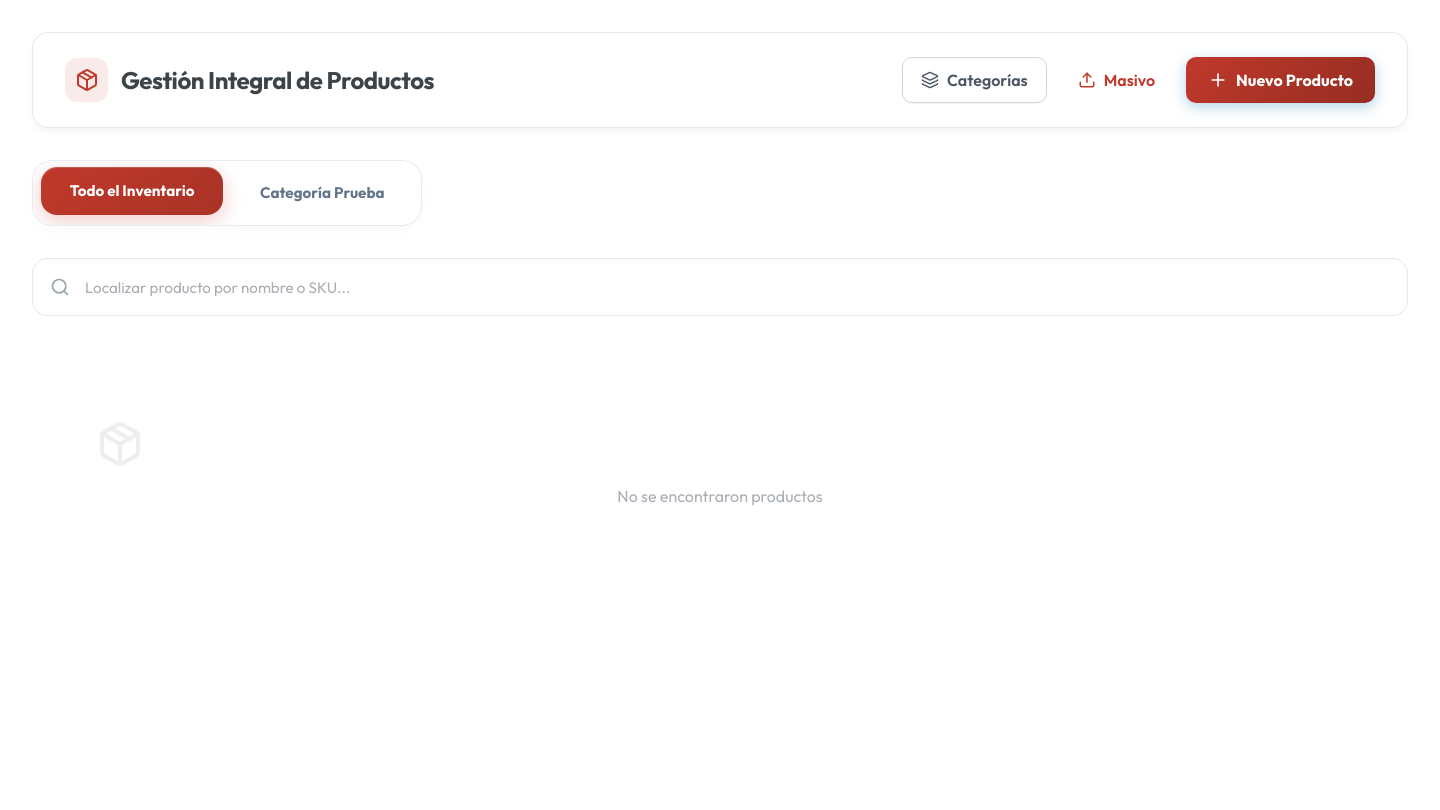
Test: Matriz de Casos de Prueba - Módulo Inventario › CP-004: Validar que el Código Interno sea único
The image size is (1440, 810).
Click the button "Nuevo Producto".
click(1280, 80)  # box [1186, 57, 1375, 103]
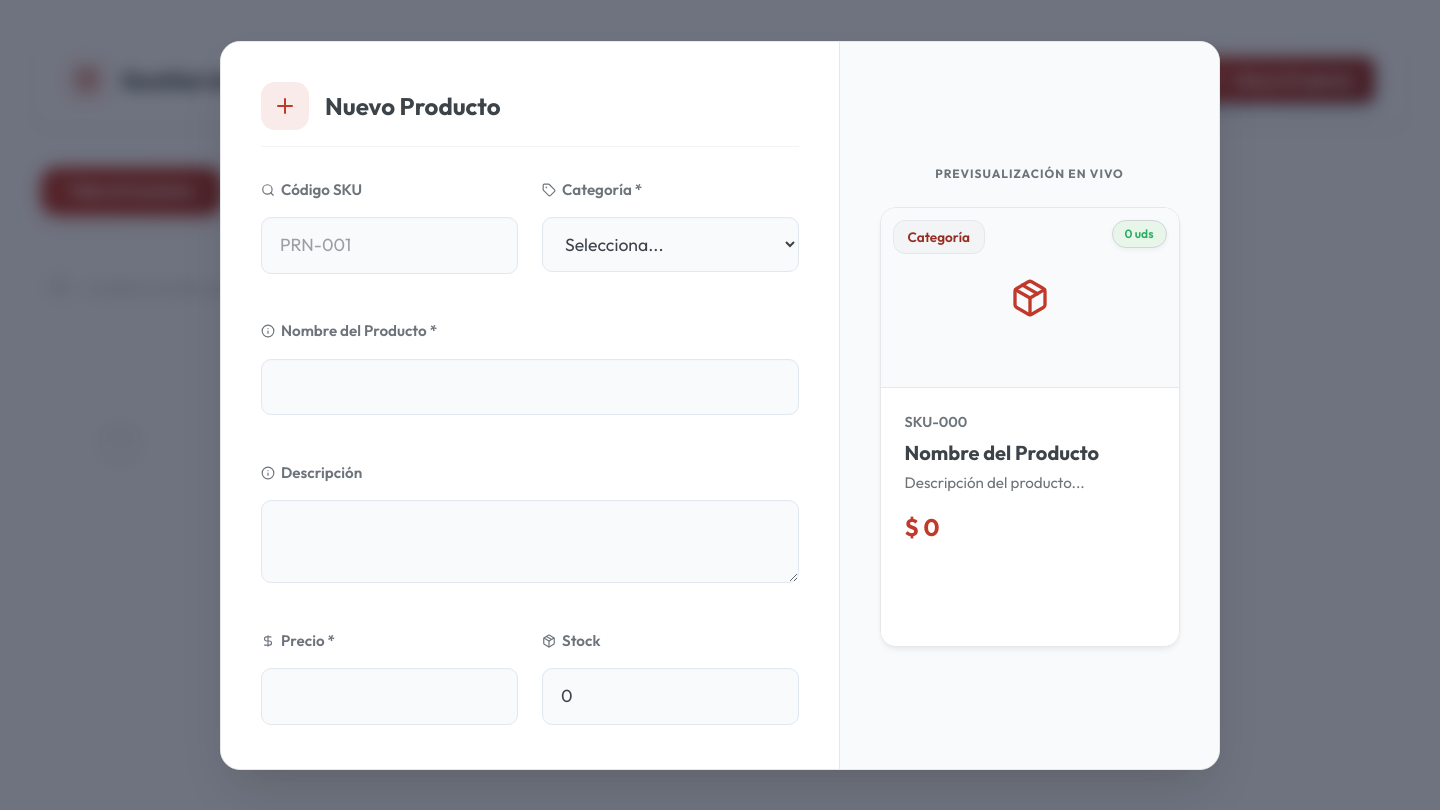
Type "DUPLICADO" into the field with placeholder "PRN-001".
click(390, 246); type("DUPLICADO")  # box [261, 217, 518, 274]
Select "Categoría Prueba" in the dropdown named "id_categoria" at (670, 245), box [542, 217, 799, 272]
Type "Producto Válido" into the field named "nombre_producto".
click(530, 387); type("Producto Válido")  # box [261, 359, 799, 415]
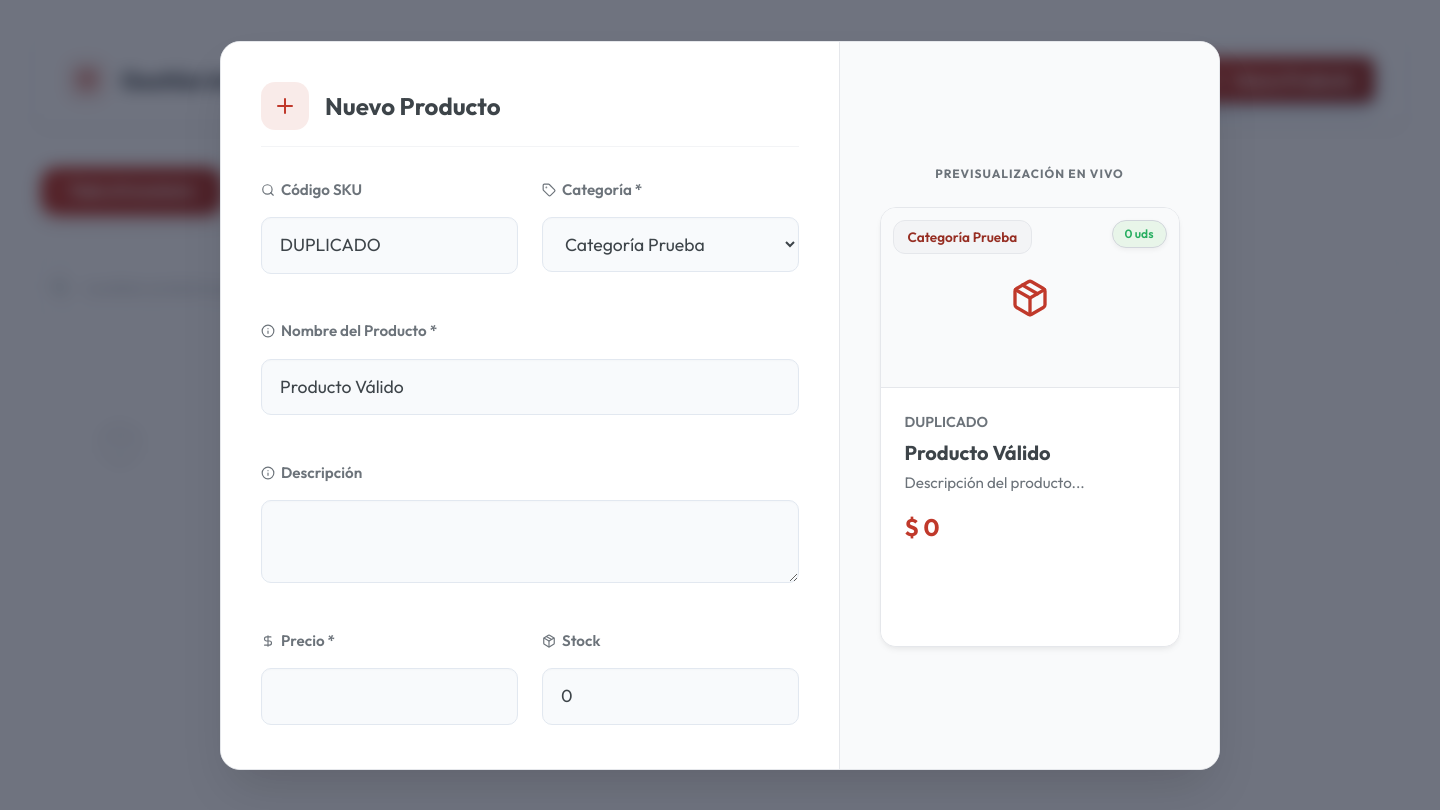
Type "Descripción válida" into the text box named "descripcion".
click(530, 542); type("Descripción válida")  # box [261, 500, 799, 583]
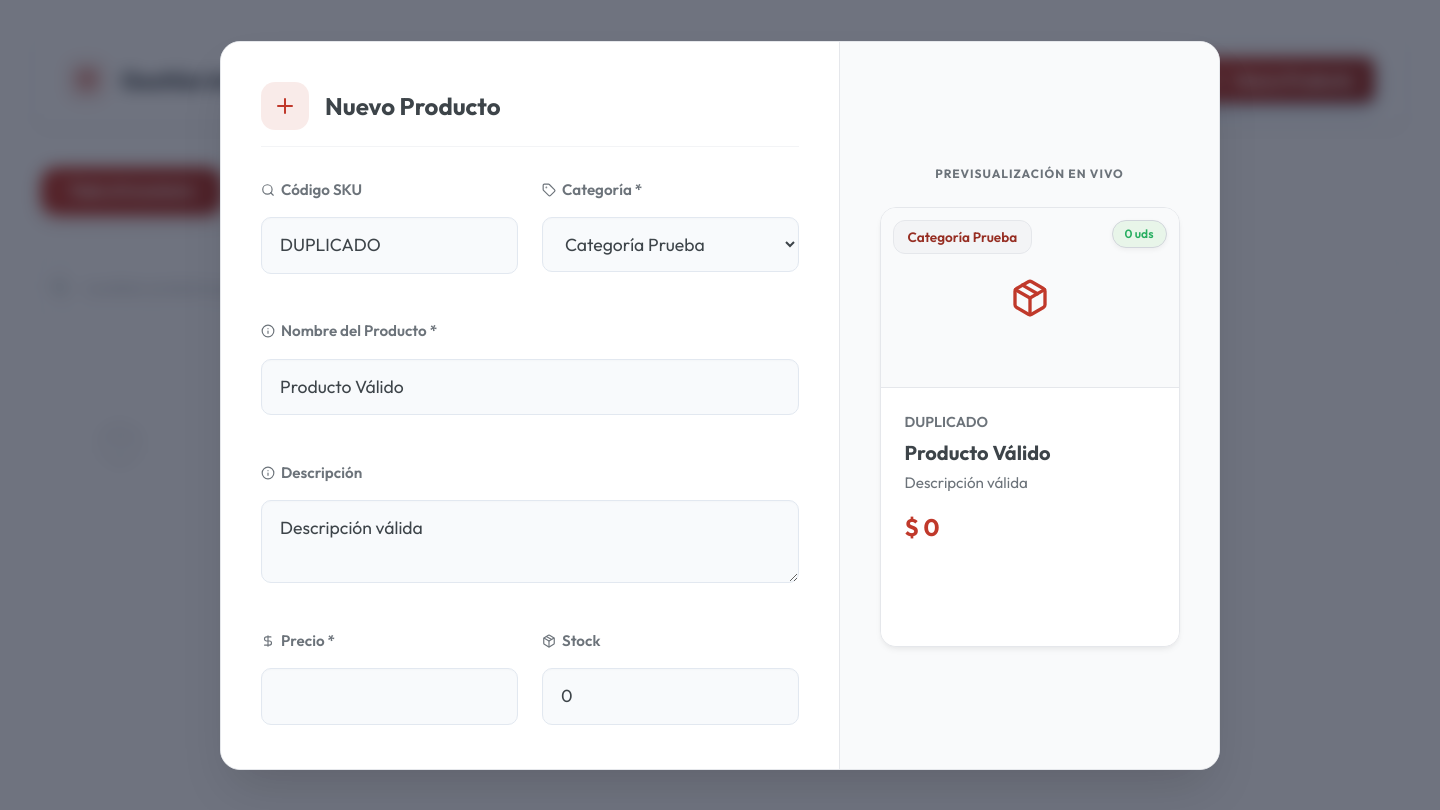
Type "1000" into the number field named "precio" below "Precio *".
click(390, 697); type("1000")  # box [261, 668, 518, 725]
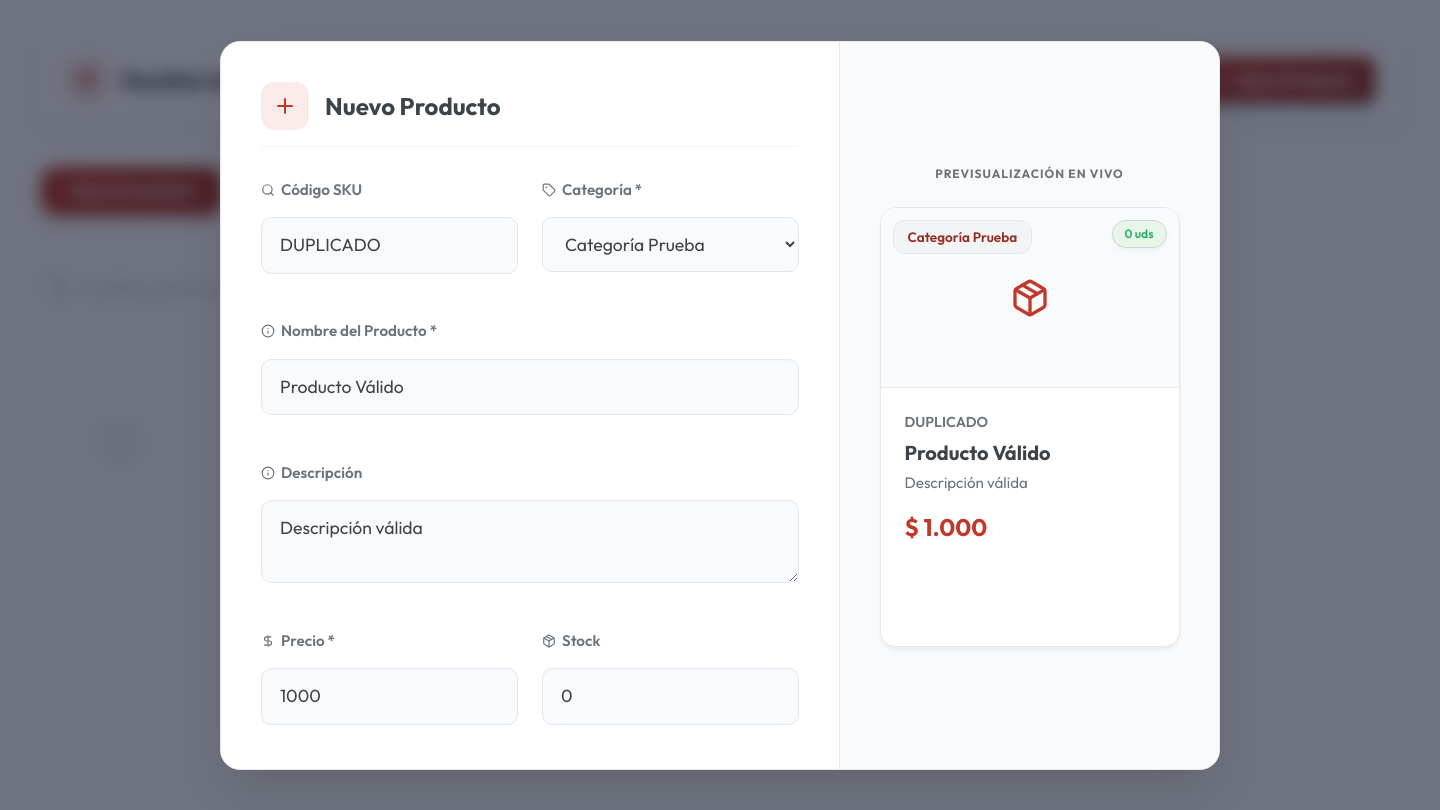
Replace the text in the number field named "stock" below "Stock" with "5" at (670, 697), box [542, 668, 799, 725]
(page scrolled)
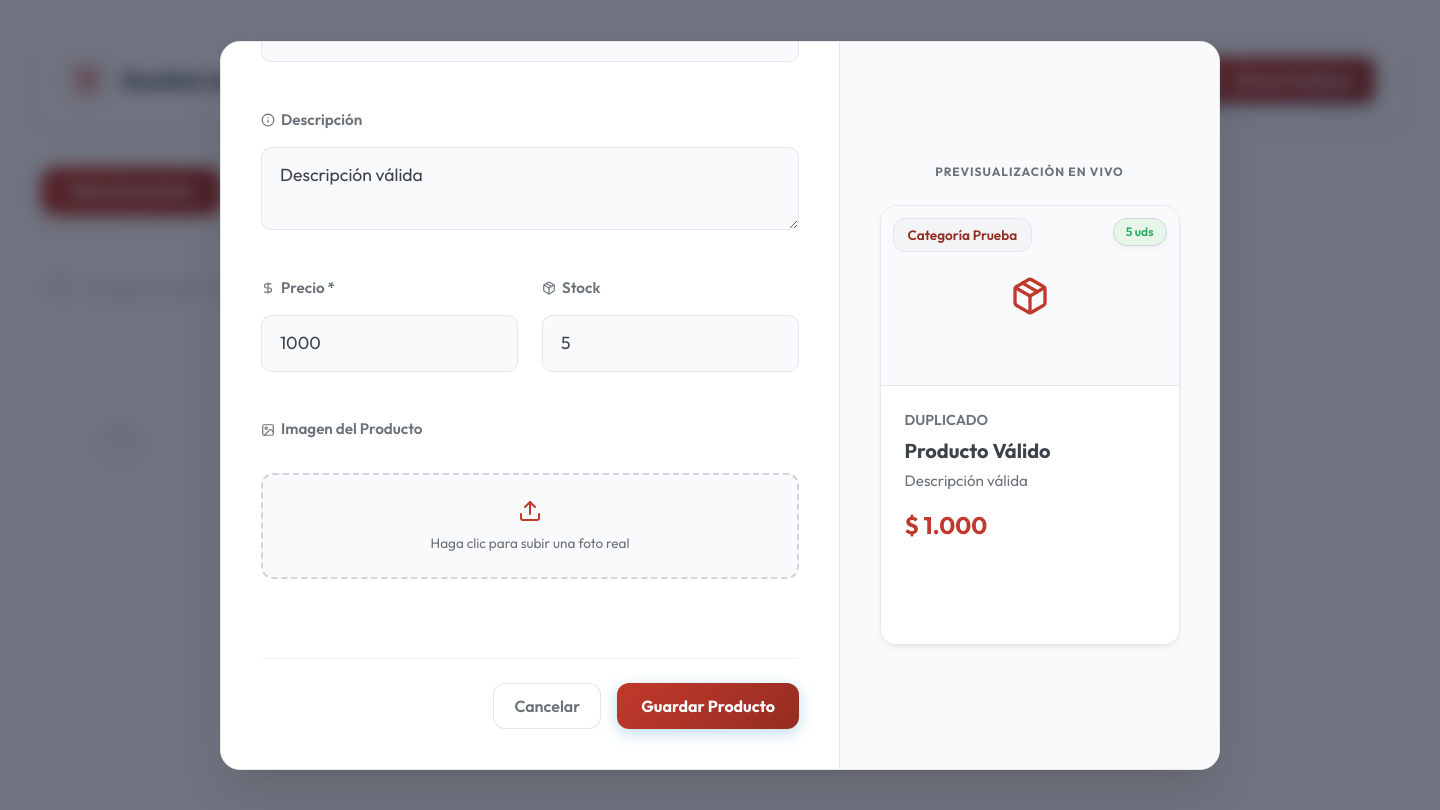
Click the button "Guardar Producto".
click(708, 706)  # box [617, 683, 799, 729]
(page scrolled)
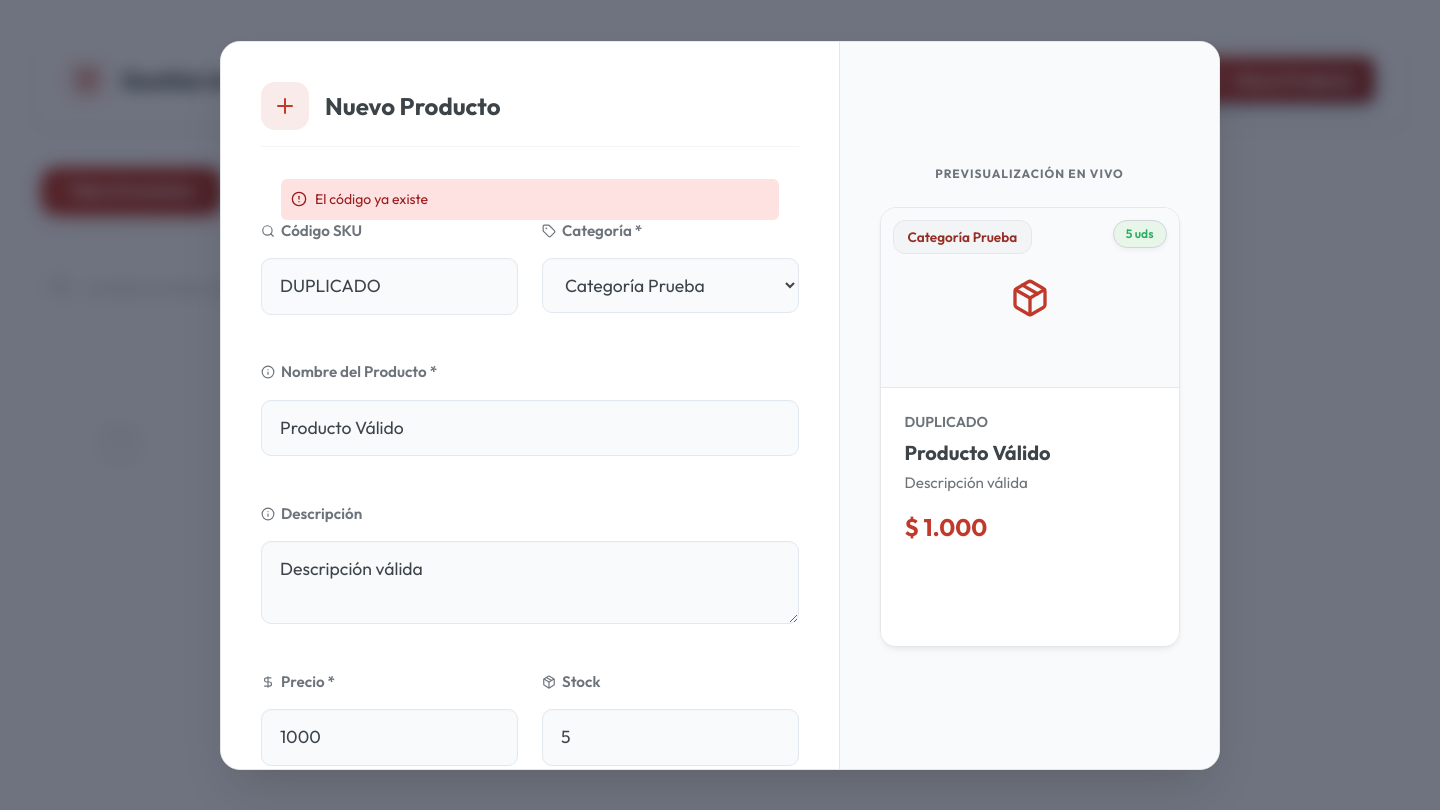
Check: the text "El código ya existe" is shown, box [281, 178, 779, 220]
